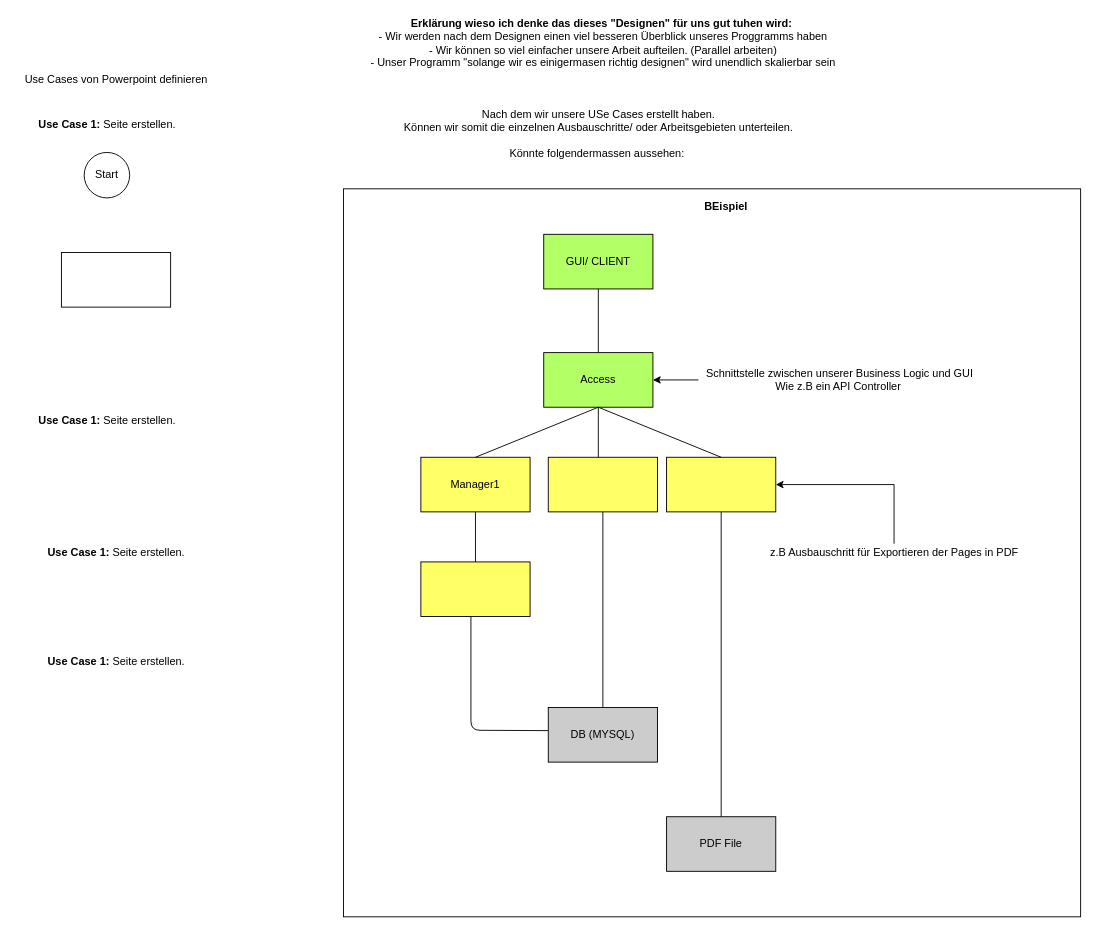
Image size: 1097x933. Some labels were removed from this diagram. The centre of each missing label's shape, as x and y in pixels:
"Engine1" goes at (475,589).
"Manager2" goes at (602,484).
"Manager3" goes at (721,484).
